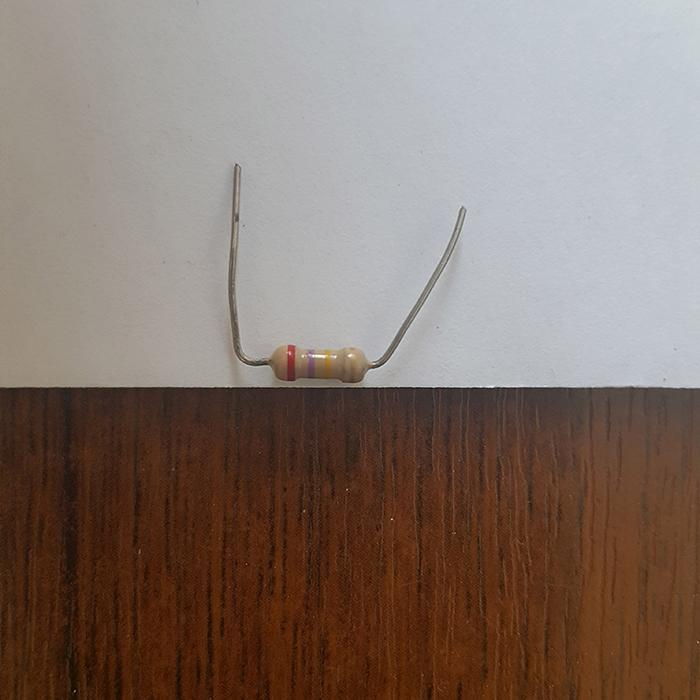resistor: (268, 344, 370, 383)
